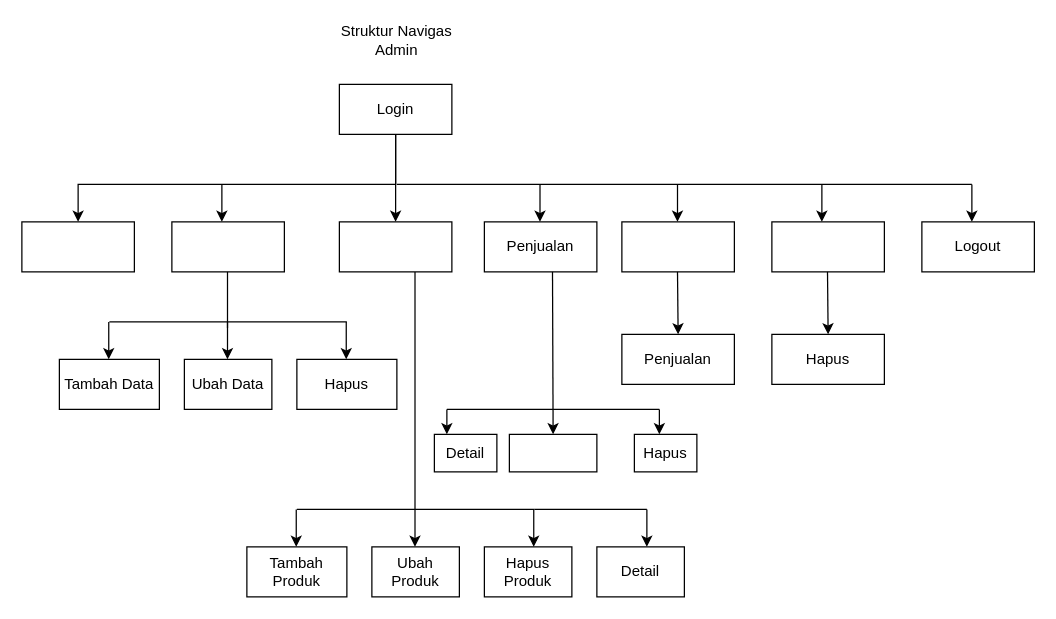
Some shapes in this 1056 by 619 pixel diagram are drawn without their labels. The box of each missing label's shape, as (x1, y1, x2, y2) in pixels:
Home: (21, 221, 134, 272)
Kategori: (171, 221, 284, 272)
Laporan: (621, 221, 734, 272)
Pelanggan: (771, 221, 884, 272)
Pembayaran: (508, 433, 597, 472)
Produk: (338, 221, 452, 272)
